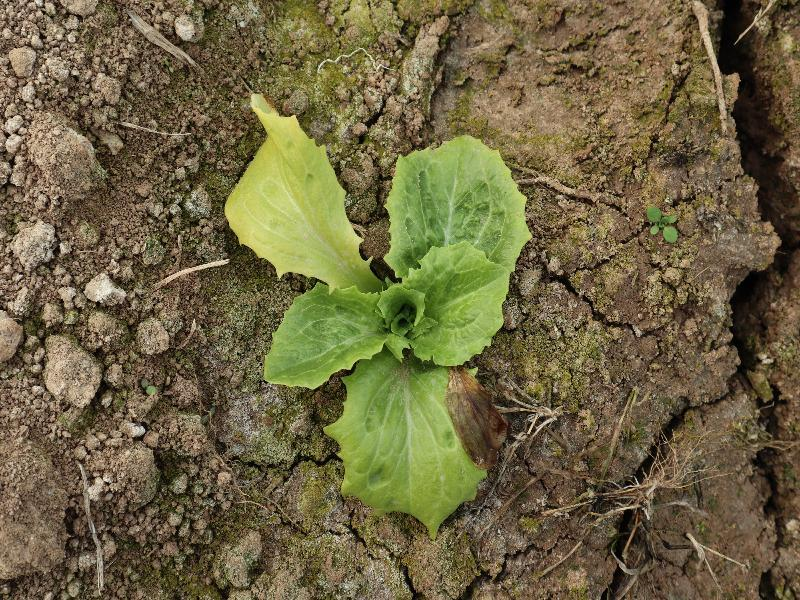lettuce: (222, 90, 532, 539)
